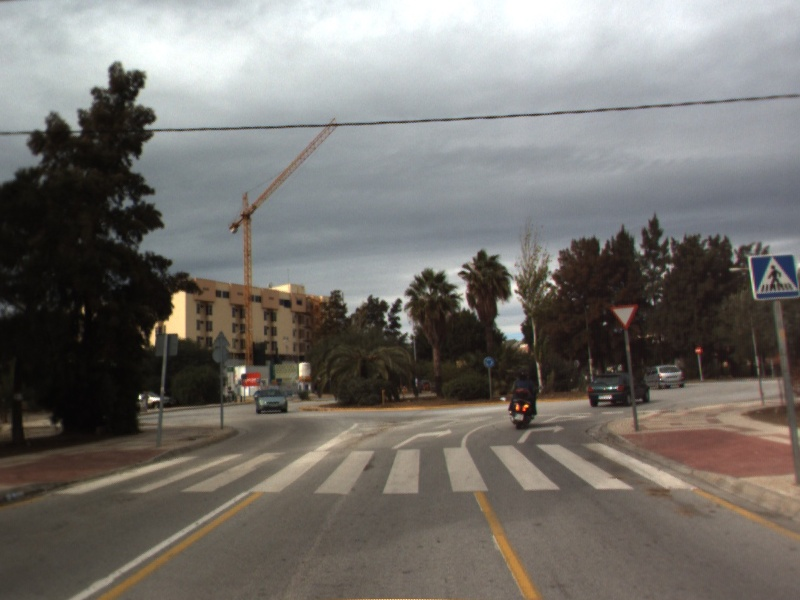RIGHT: (389, 427, 455, 451), (515, 422, 567, 445)
